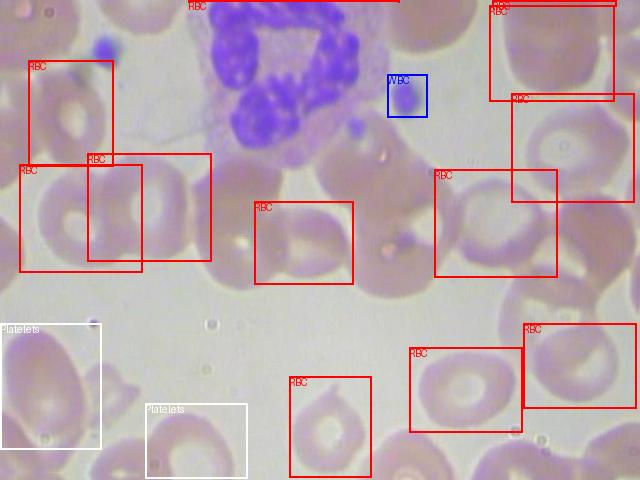Platelets: (0, 323, 101, 449), (145, 403, 247, 478)
RBC: (511, 93, 634, 202), (87, 153, 211, 261), (434, 169, 557, 277), (19, 164, 142, 272), (489, 5, 614, 101), (409, 347, 522, 432), (523, 323, 636, 408), (28, 60, 113, 166), (289, 376, 371, 477), (254, 201, 353, 284), (492, 0, 616, 6)
WBC: (387, 74, 427, 117)
